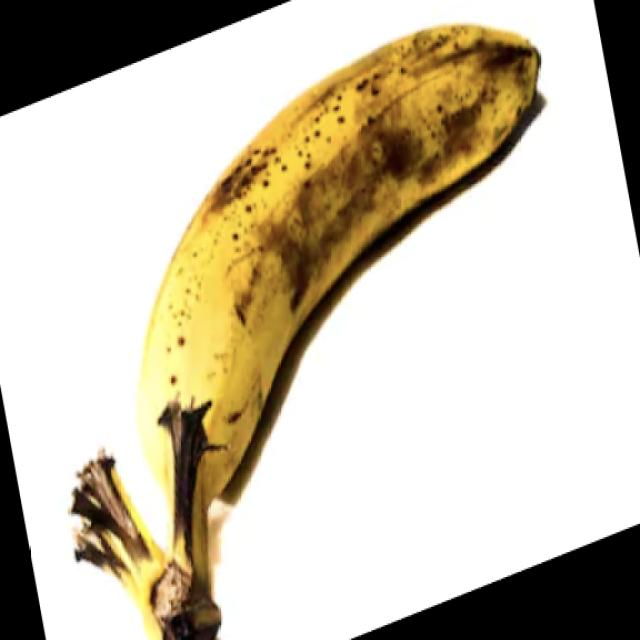overripe: (132, 17, 543, 512)
